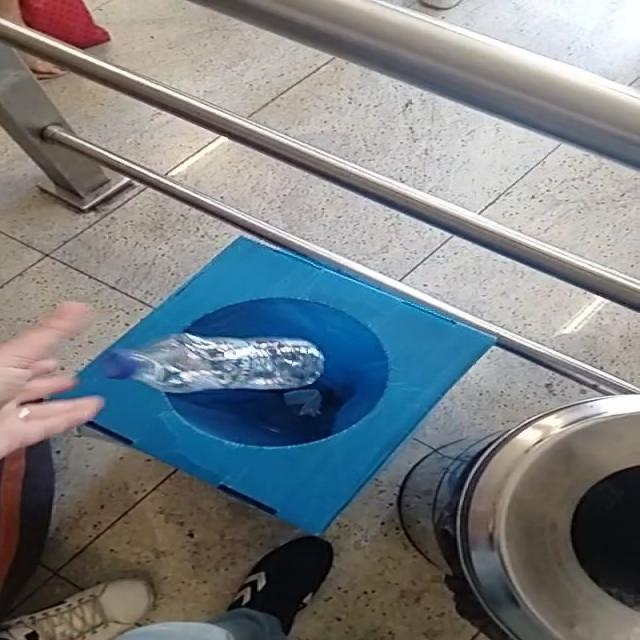Plastic: (128, 332, 324, 393)
